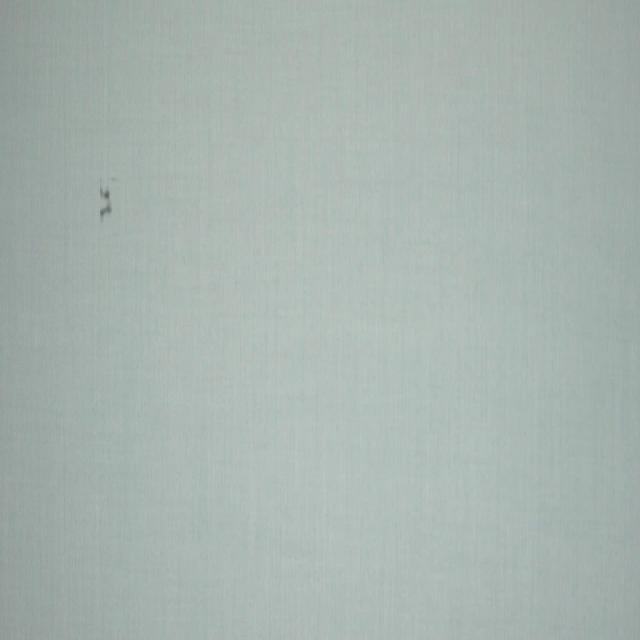dirty: (100, 185, 114, 217)
